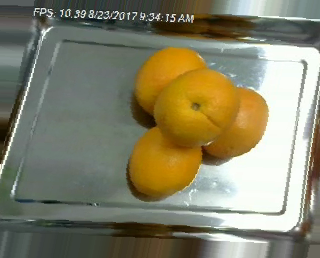Orange: (154, 69, 238, 148), (128, 122, 203, 198), (133, 46, 208, 118), (201, 84, 269, 158)
